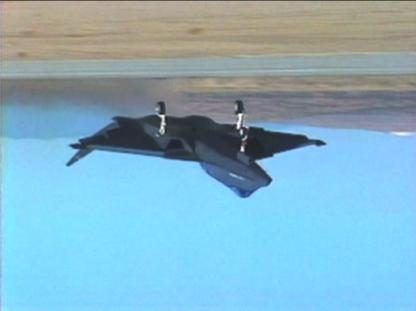US2: (65, 99, 327, 199)
